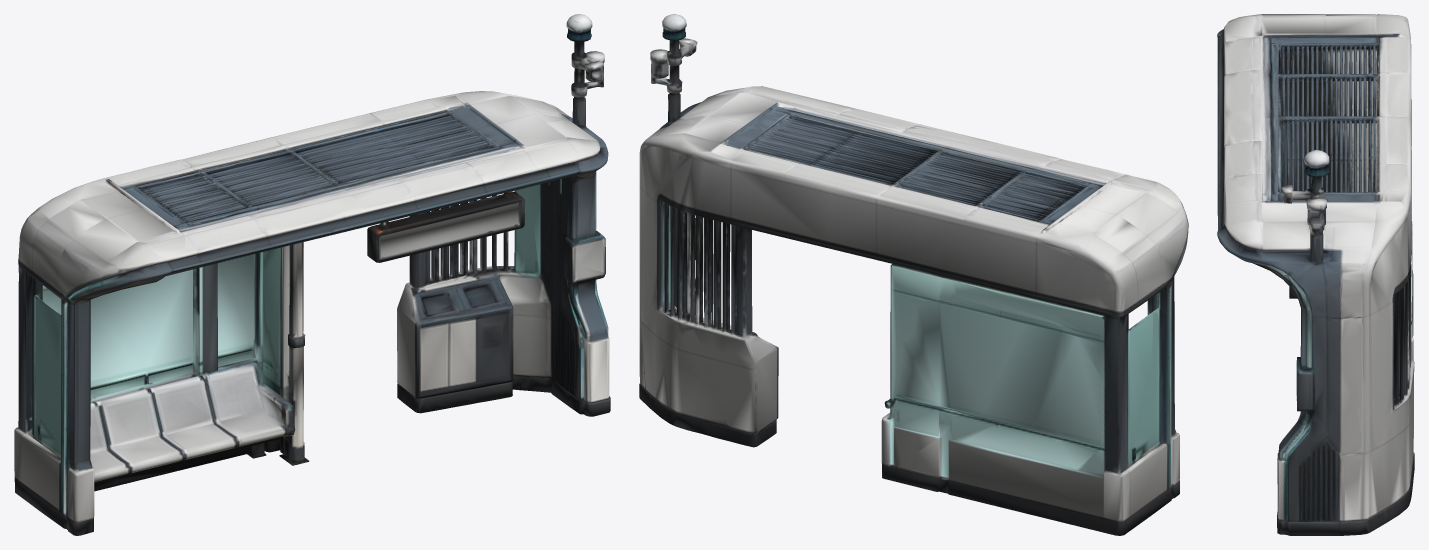
File: passiona-smart-mobility-stop.glb
3 views of the same model, side by side, from view 1: azimuth 30°, elevation 25°; view 2: azimuth 150°, elevation 25°; view 3: azimuth 270°, elevation 25° (orthographic). The views are drawn at different scales.
Visible parts, largest first — view 1: node_0; view 2: node_0; view 3: node_0.
Part boxes in pixels (<box>): node_0: <box>14,14,610,535</box>; node_0: <box>639,14,1188,535</box>; node_0: <box>1217,14,1414,535</box>.
Bounding box in the file's own units: 0.9656 × 0.6596 × 0.3107.
1 material, 1 textured.
